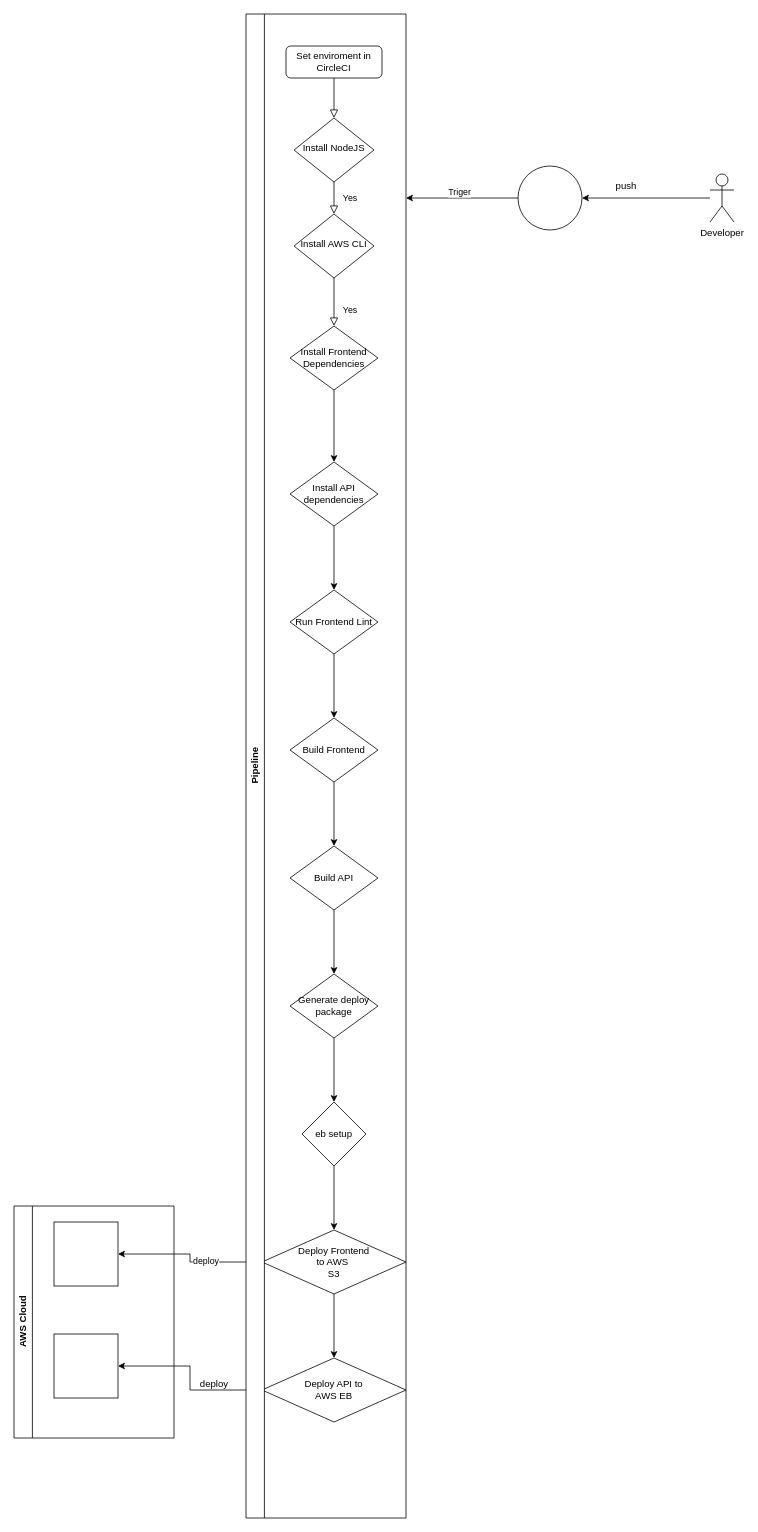
This 758x1532 diagram has some shape labels left out. The centre of each missing label's shape, as x and y in pixels:
"AWS Elastic Beastalk" belongs at pixel 85 1365.
"AWS S3 bucket" belongs at pixel 85 1253.
"Github" belongs at pixel 549 197.
